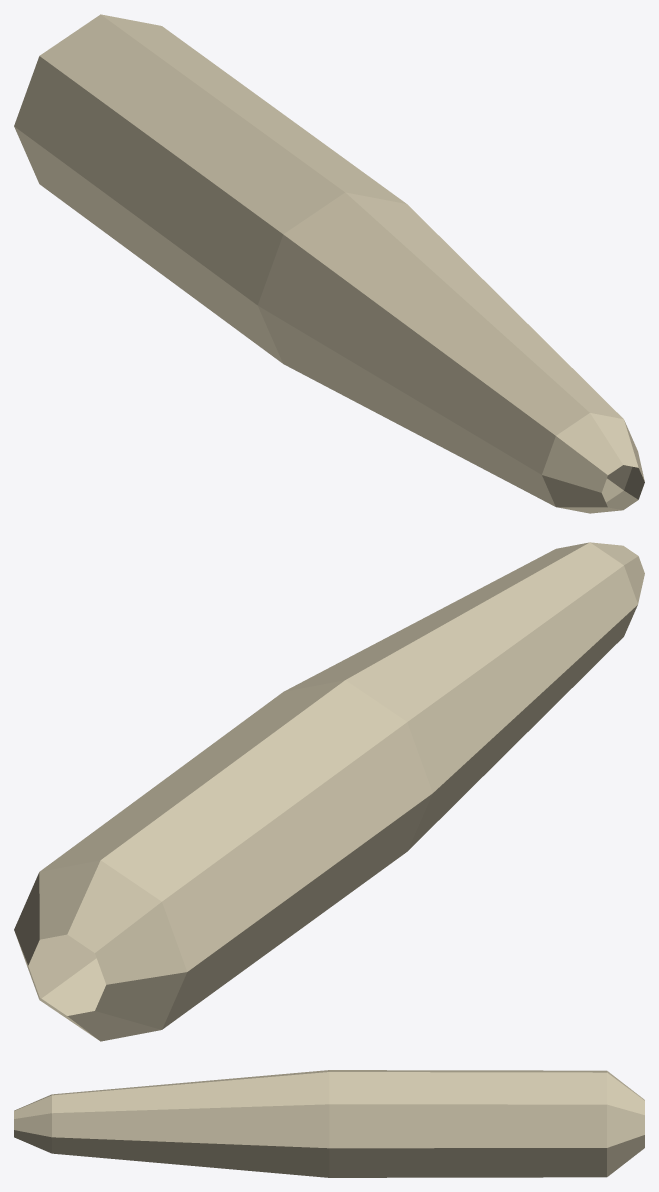
File: bone_shard.obj
The picture shows the model from 3 angles, top to bottom: view 1: azimuth 30°, elevation 25°; view 2: azimuth 150°, elevation 25°; view 3: azimuth 270°, elevation 25°; orthographic projection. The views are drawn at different scales.
Visible parts, largest first — view 1: shard; view 2: shard; view 3: shard.
Boxes of the visible parts, x1,y1,x2,y2 form: shard: [14, 14, 644, 513]; shard: [14, 542, 644, 1041]; shard: [14, 1070, 644, 1177].
Bounding box in the file's own units: 0.35 × 0.35 × 1.92.
